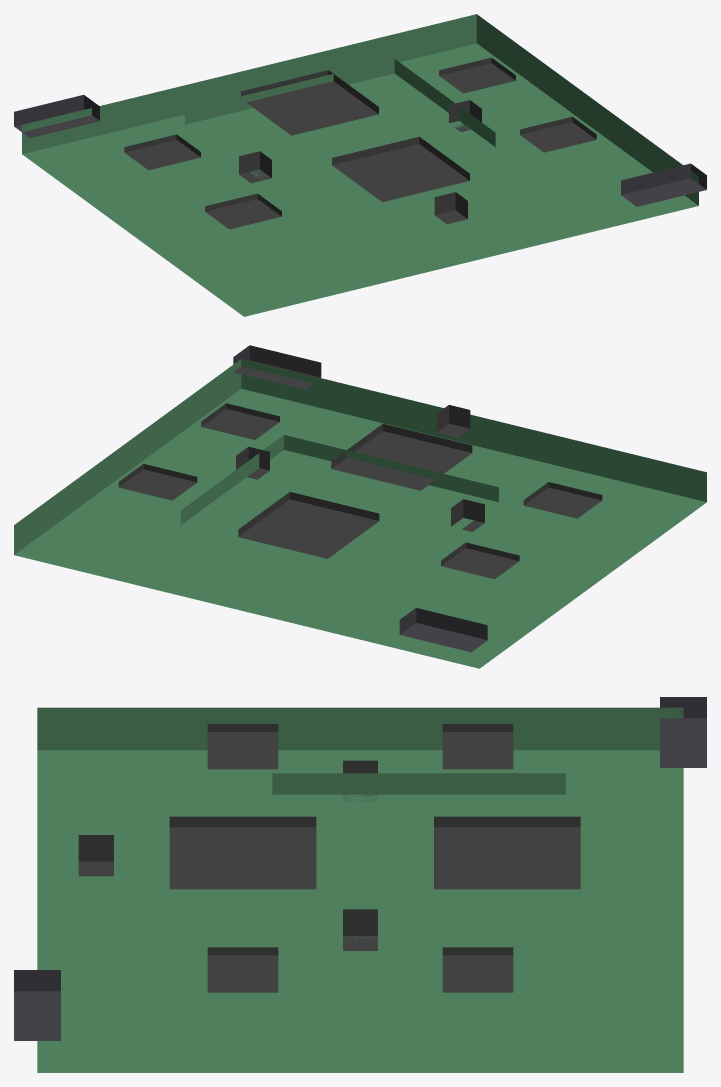
File: mainboard.gltf
3 views of the same model, one above another, from view 1: azimuth 30°, elevation 25°; view 2: azimuth 150°, elevation 25°; view 3: azimuth 270°, elevation 25° (orthographic). The views are drawn at different scales.
Visible parts, largest first — view 1: mainboard; view 2: mainboard; view 3: mainboard.
Boxes of the visible parts, x1,y1,x2,y2 form: mainboard: [14, 14, 706, 316]; mainboard: [14, 345, 706, 668]; mainboard: [14, 697, 706, 1072].
Bounding box in the file's own units: 0.13 × 0.013 × 0.118.
